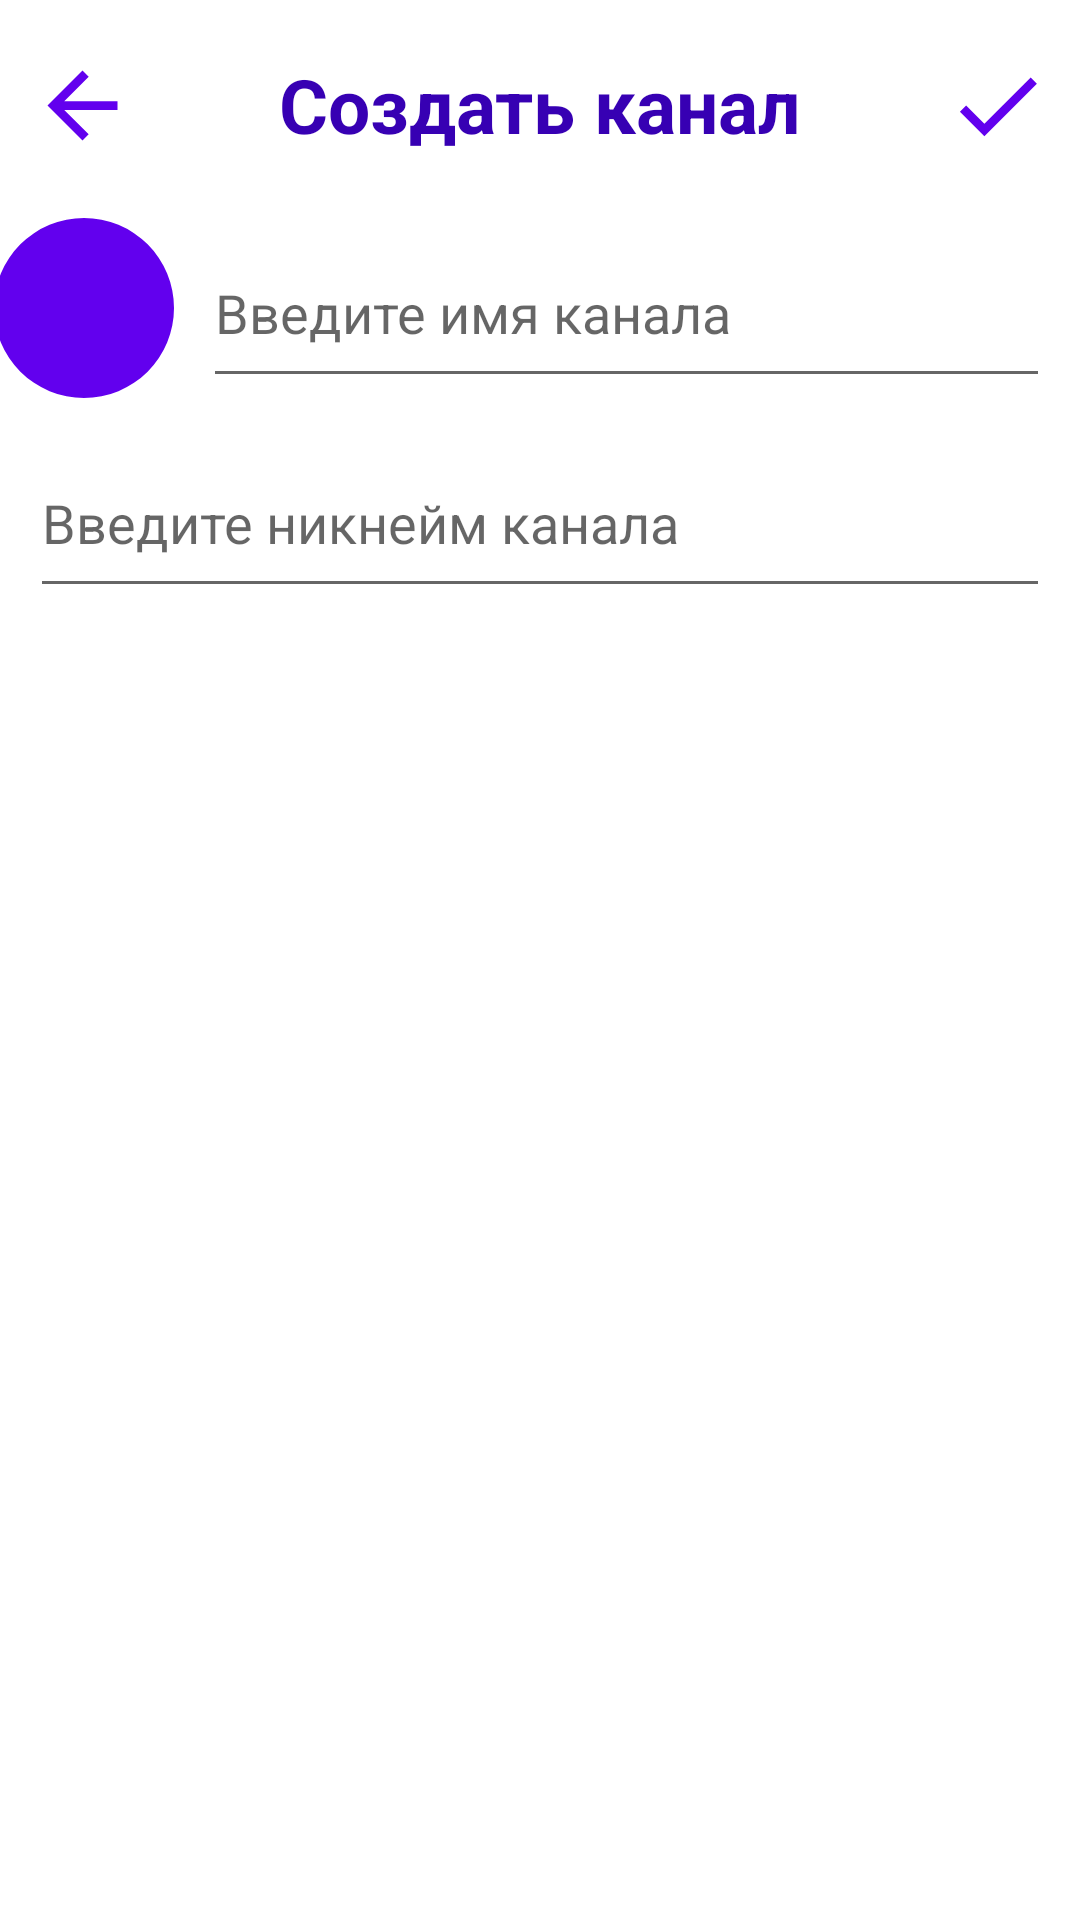

Where to tap for icons on this 1080px×1920px app screen, as [x,y]:
back: [82,105]
check: [998,106]
